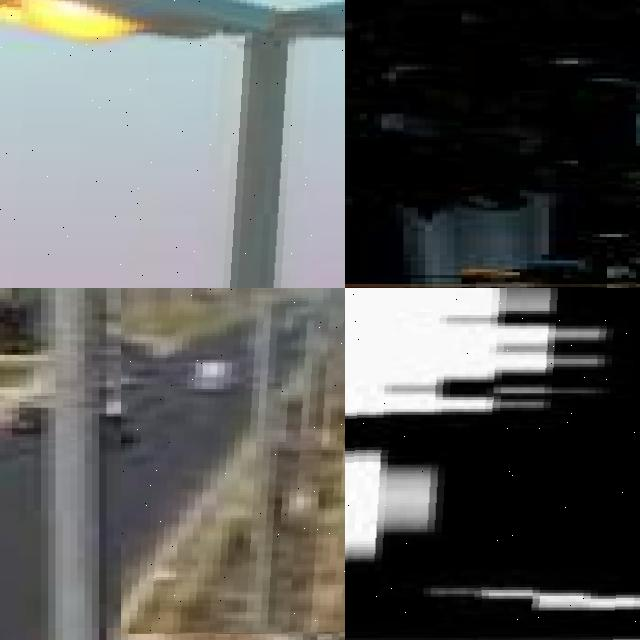street light: (345, 288, 640, 640), (0, 0, 345, 288), (120, 288, 345, 634)
